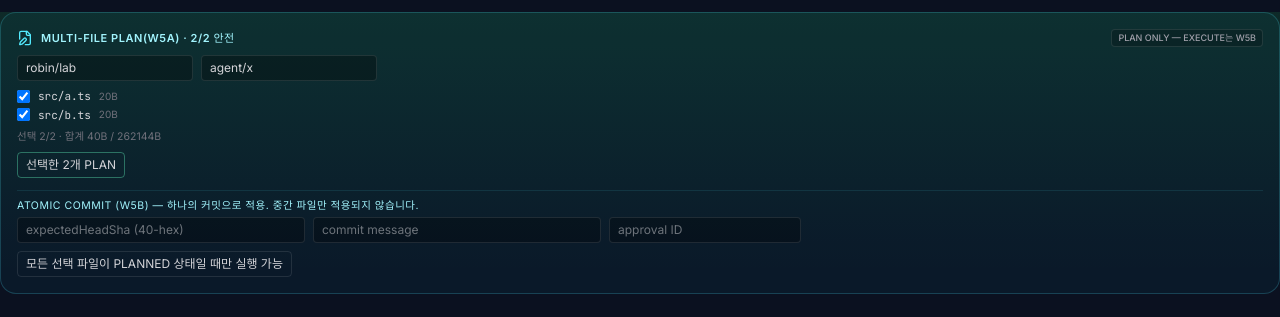
Scenario: MultiFilePlanCard — W5a › (#7) 한 파일 blocked → 해당 행만 blocked + 나머지는 planned, plan 호출은 2회 유지
The image size is (1280, 317).
Click the button with test id "publish-multifile-plan-all": click(71, 165) 17,152 -> 125,178
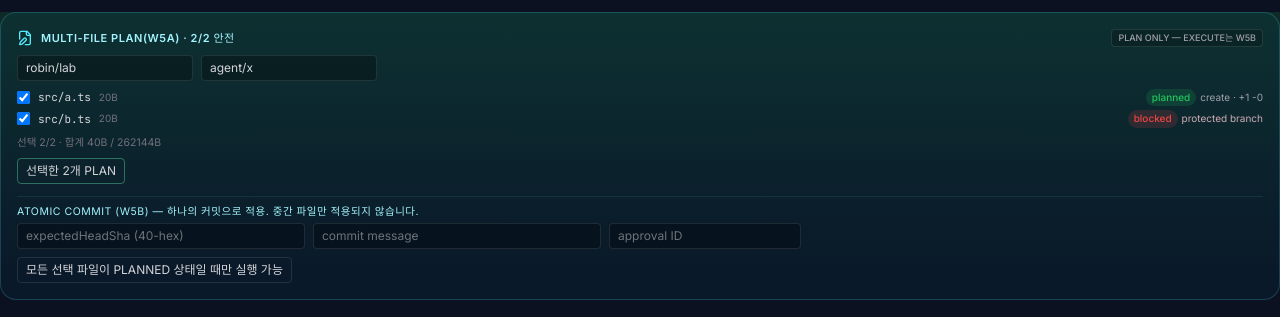
Expected: the list item with test id "publish-multifile-row-src/b.ts" shows "protected branch", 1182,112 -> 1263,124
